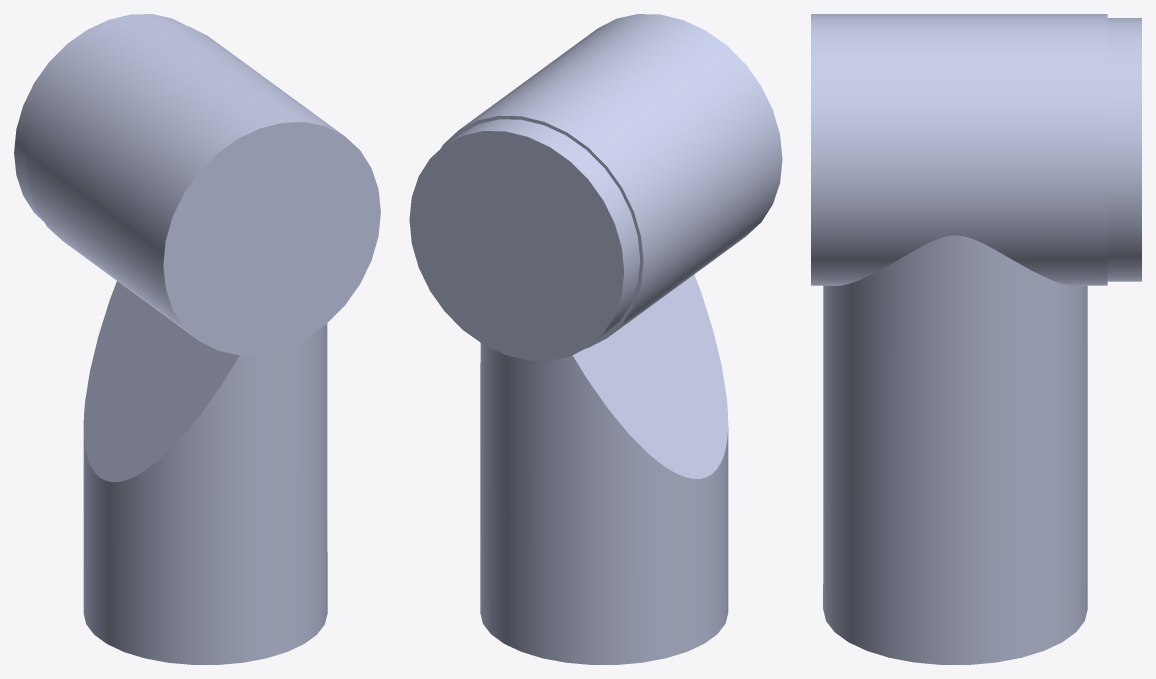
The picture shows the model from 3 angles, left to right: view 1: azimuth 30°, elevation 25°; view 2: azimuth 150°, elevation 25°; view 3: azimuth 270°, elevation 25°; orthographic projection. The views are drawn at different scales.
Parts seen in each view (by area): view 1: FBXASC195FBXASC135FBXASC195FBXASC144FBXASC194FBXASC179FBXASC; view 2: FBXASC195FBXASC135FBXASC195FBXASC144FBXASC194FBXASC179FBXASC; view 3: FBXASC195FBXASC135FBXASC195FBXASC144FBXASC194FBXASC179FBXASC.
Boxes of the visible parts, <box> form: FBXASC195FBXASC135FBXASC195FBXASC144FBXASC194FBXASC179FBXASC: <box>14,14,380,664</box>; FBXASC195FBXASC135FBXASC195FBXASC144FBXASC194FBXASC179FBXASC: <box>409,14,782,664</box>; FBXASC195FBXASC135FBXASC195FBXASC144FBXASC194FBXASC179FBXASC: <box>811,14,1141,664</box>.
Bounding box in the file's own units: 0.068 × 0.0825 × 0.1603.
